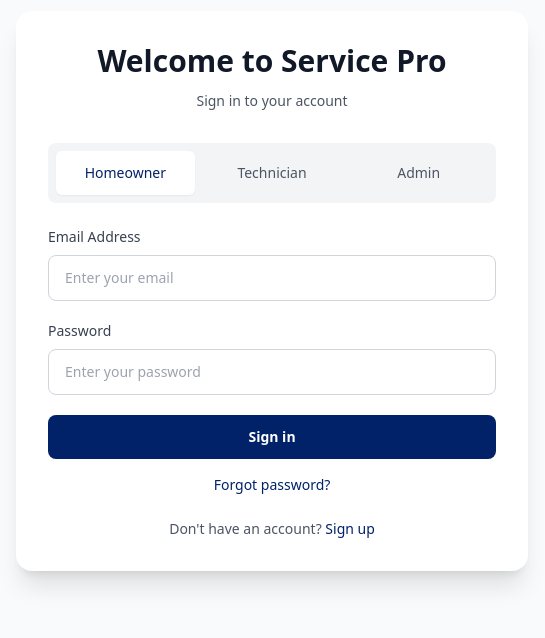
Login.jsx › shows error if login throws (network error)
This screenshot has width=545, height=638.
Type "test@example.com" into the field labelled "Email Address" at (272, 278), box left=48, top=255, right=496, bottom=301
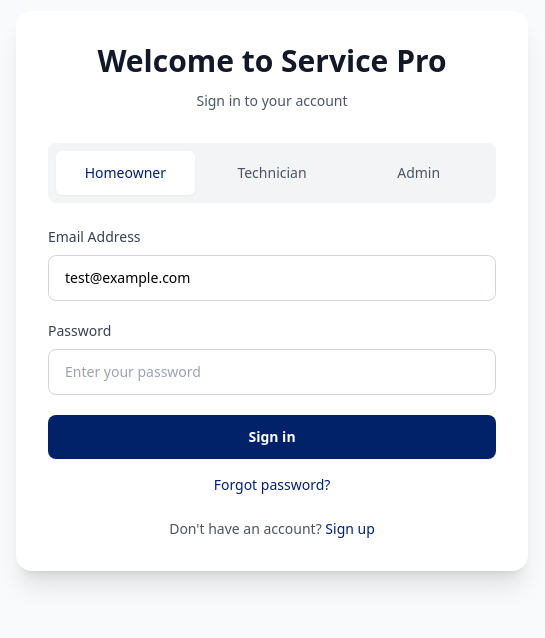
Type "password" into the password field labelled "Password" at (272, 372), box left=48, top=349, right=496, bottom=395
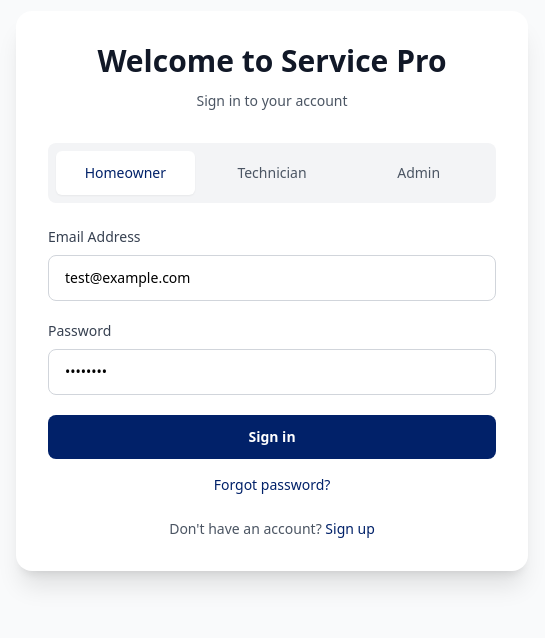
Click the button "Sign in" at (272, 437), box left=48, top=415, right=496, bottom=459
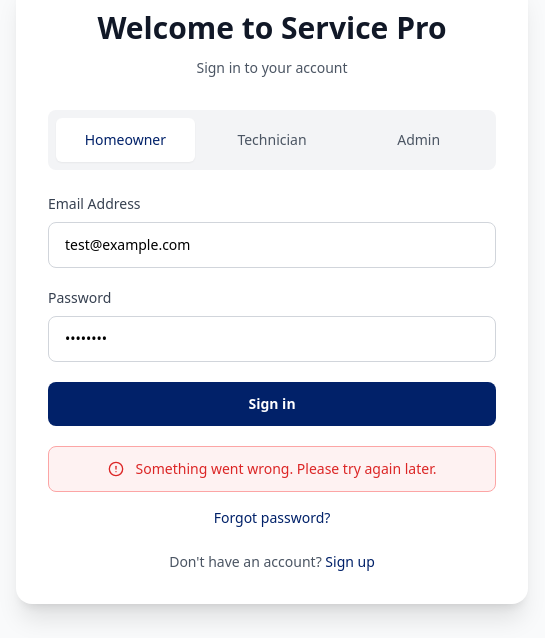
Check: the text "Something went wrong. Please try again later." is shown, box left=136, top=459, right=436, bottom=479
